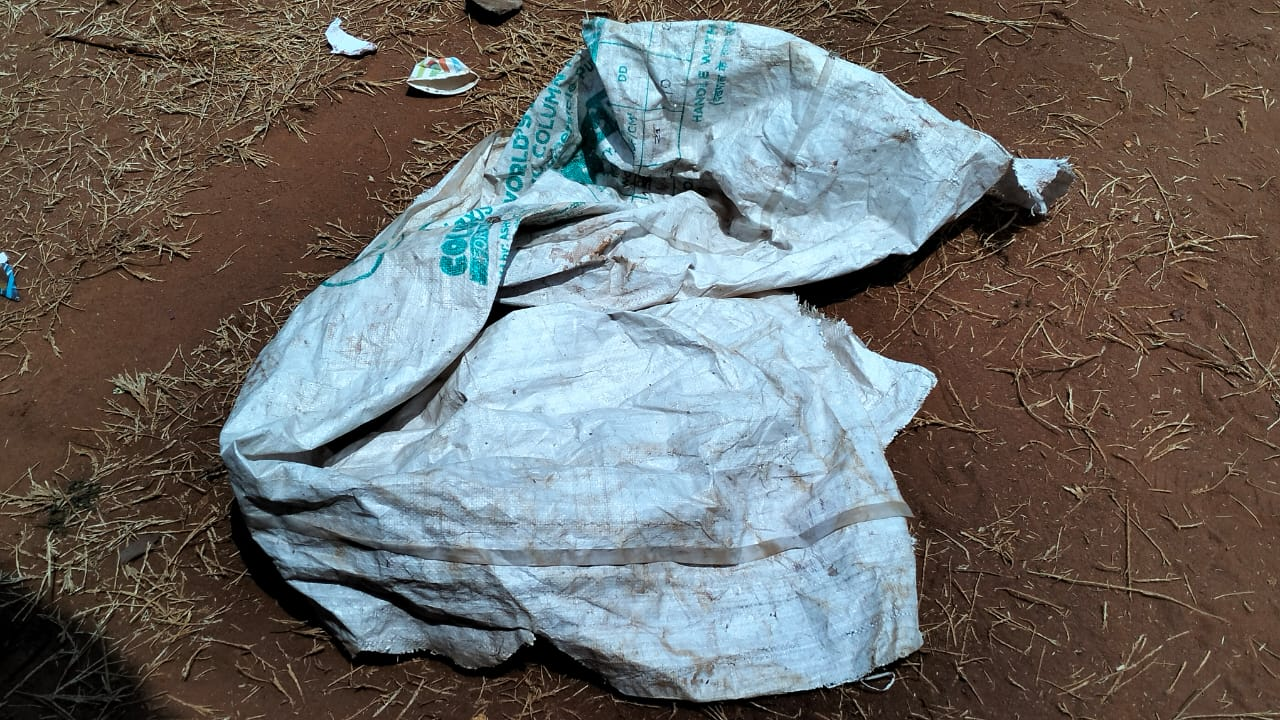pbag: (171, 26, 1071, 691)
